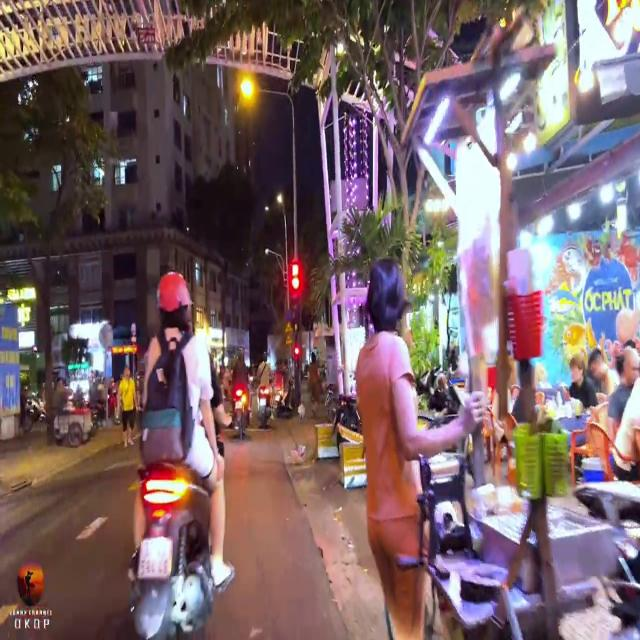bien_trang: (140, 533, 175, 579)
